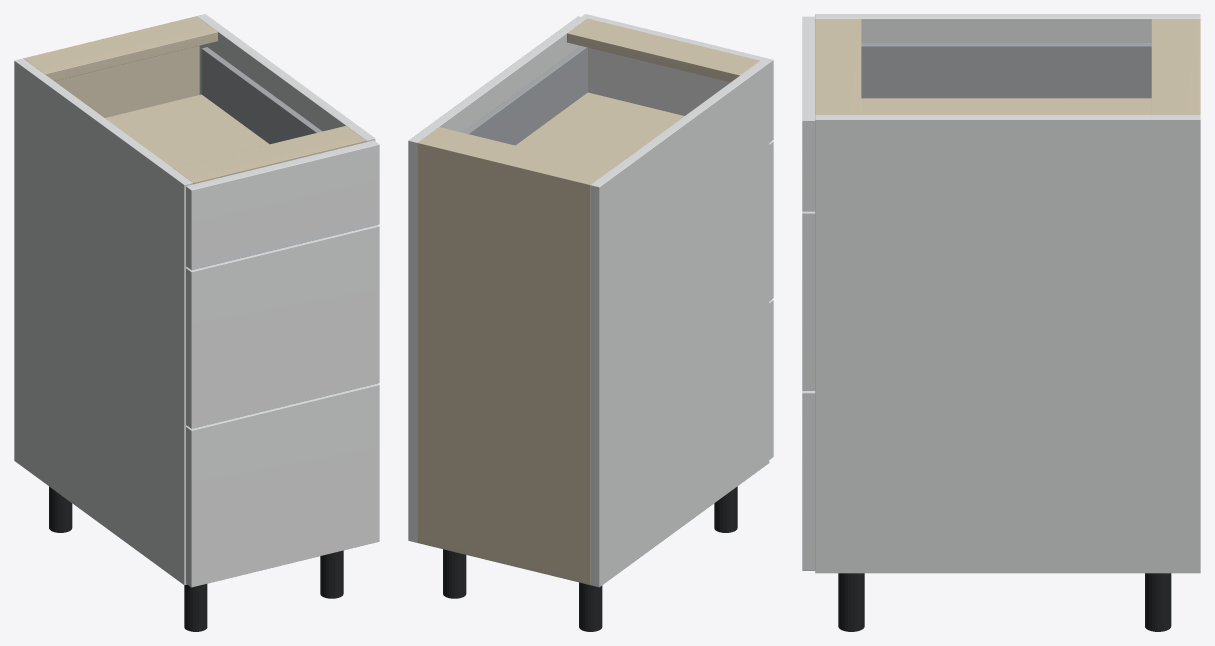
The model's file is oppein-ply-pgw-3db15.glb.
3 renders of one model, left to right at view 1: azimuth 30°, elevation 25°; view 2: azimuth 150°, elevation 25°; view 3: azimuth 270°, elevation 25°, orthographic. The views are drawn at different scales.
Parts seen in each view (by area): view 1: Cabinet side, Drawer front, Drawer front.001, Drawer front.002, Cabinet back, Drawer floor.002, Drawer side.005, Top support rail, Cabinet side.001, Top support rail.001, Adjustable foot.001, Adjustable foot.003 (+1 smaller); view 2: Cabinet side, Cabinet back, Cabinet side.001, Drawer floor.002, Drawer front.002, Drawer side.005, Top support rail.001, Top support rail, Adjustable foot, Adjustable foot.002, Adjustable foot.001, Drawer front (+2 smaller); view 3: Cabinet side.001, Drawer side.004, Cabinet side, Drawer floor.002, Top support rail.001, Top support rail, Drawer front.002, Drawer front, Drawer front.001, Adjustable foot.002, Adjustable foot.003, Cabinet back.
Part boxes in pixels (<box>): Cabinet side: <box>14,58,192,585</box>; Drawer front: <box>186,383,379,587</box>; Drawer front.001: <box>186,225,379,428</box>; Drawer front.002: <box>186,140,379,270</box>; Cabinet back: <box>23,16,199,117</box>; Drawer floor.002: <box>105,94,269,167</box>; Drawer side.005: <box>201,47,322,144</box>; Top support rail: <box>25,18,217,80</box>; Cabinet side.001: <box>197,14,375,141</box>; Top support rail.001: <box>173,126,366,184</box>; Adjustable foot.001: <box>184,584,207,631</box>; Adjustable foot.003: <box>320,550,343,598</box>; Cabinet side: <box>590,60,769,587</box>; Cabinet back: <box>417,140,593,584</box>; Cabinet side.001: <box>408,16,586,542</box>; Drawer floor.002: <box>515,92,684,168</box>; Drawer front.002: <box>582,14,773,142</box>; Drawer side.005: <box>463,46,587,145</box>; Top support rail.001: <box>567,18,759,82</box>; Top support rail: <box>421,127,611,182</box>; Adjustable foot: <box>579,582,602,631</box>; Adjustable foot.002: <box>443,549,466,598</box>; Adjustable foot.001: <box>714,486,737,532</box>; Drawer front: <box>769,299,773,459</box>; Cabinet side.001: <box>815,115,1200,573</box>; Drawer side.004: <box>861,43,1151,98</box>; Cabinet side: <box>815,14,1200,42</box>; Drawer floor.002: <box>861,98,1151,114</box>; Top support rail.001: <box>815,19,861,114</box>; Top support rail: <box>1151,19,1193,114</box>; Drawer front.002: <box>802,16,815,211</box>; Drawer front: <box>802,391,815,570</box>; Drawer front.001: <box>802,211,815,390</box>; Adjustable foot.002: <box>1145,573,1171,631</box>; Adjustable foot.003: <box>838,573,864,631</box>; Cabinet back: <box>1193,19,1200,114</box>.
Size of the model in its own units: 0.381 by 0.8763 by 0.6064.
